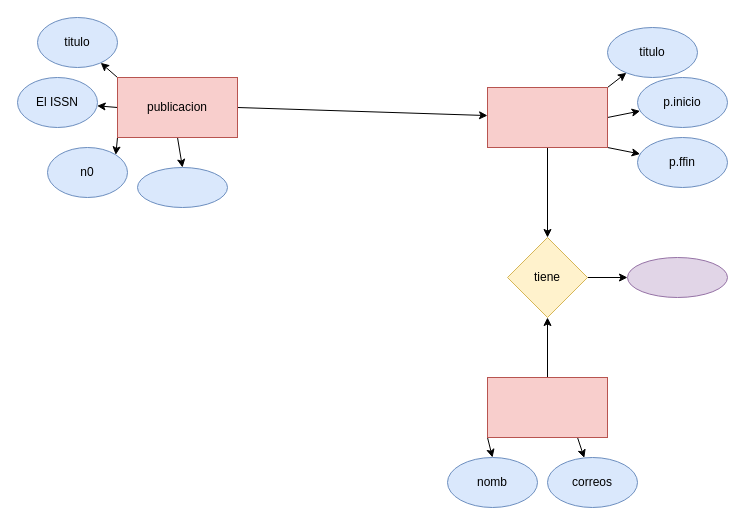
This 745x525 diagram has some shape labels left out. Each missing label, with the centre of its shape:
"anio" belongs at [182,187].
"Articulo" belongs at [547,117].
"artoros" belongs at [547,407].
"n.posie" belongs at [677,277].
